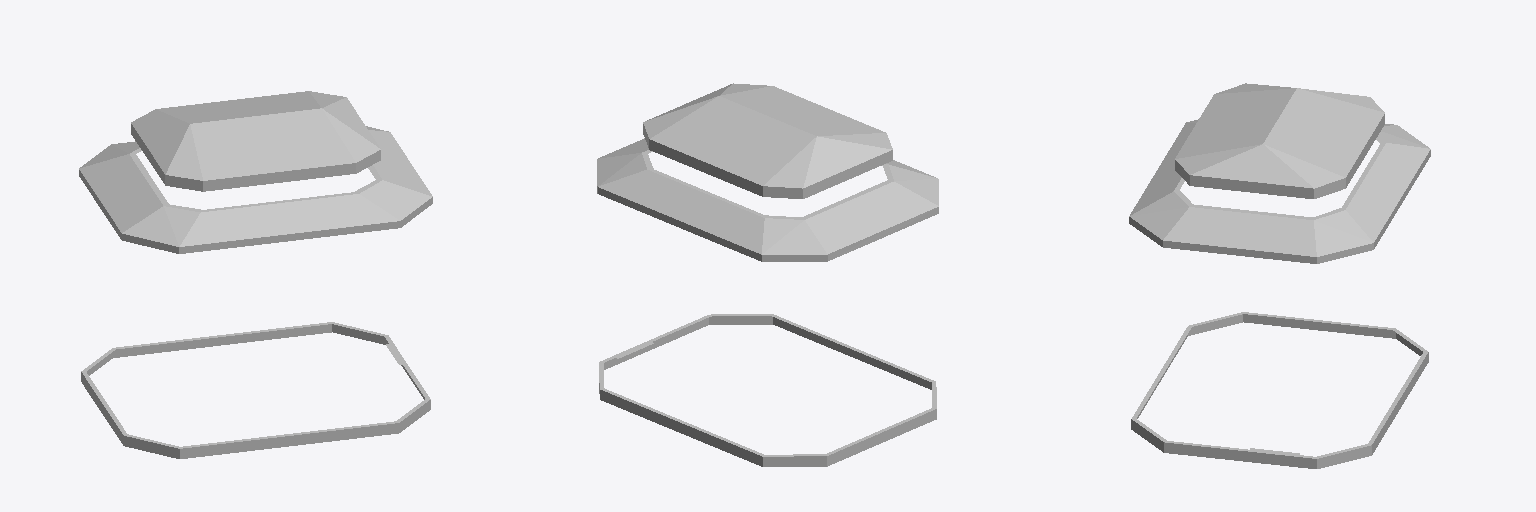
Rendered from venice_18.obj.
3 views of the same model, side by side, from view 1: azimuth 30°, elevation 25°; view 2: azimuth 150°, elevation 25°; view 3: azimuth 270°, elevation 25° (orthographic).
Size of the model in its own units: 5.52 by 4.83 by 4.72.